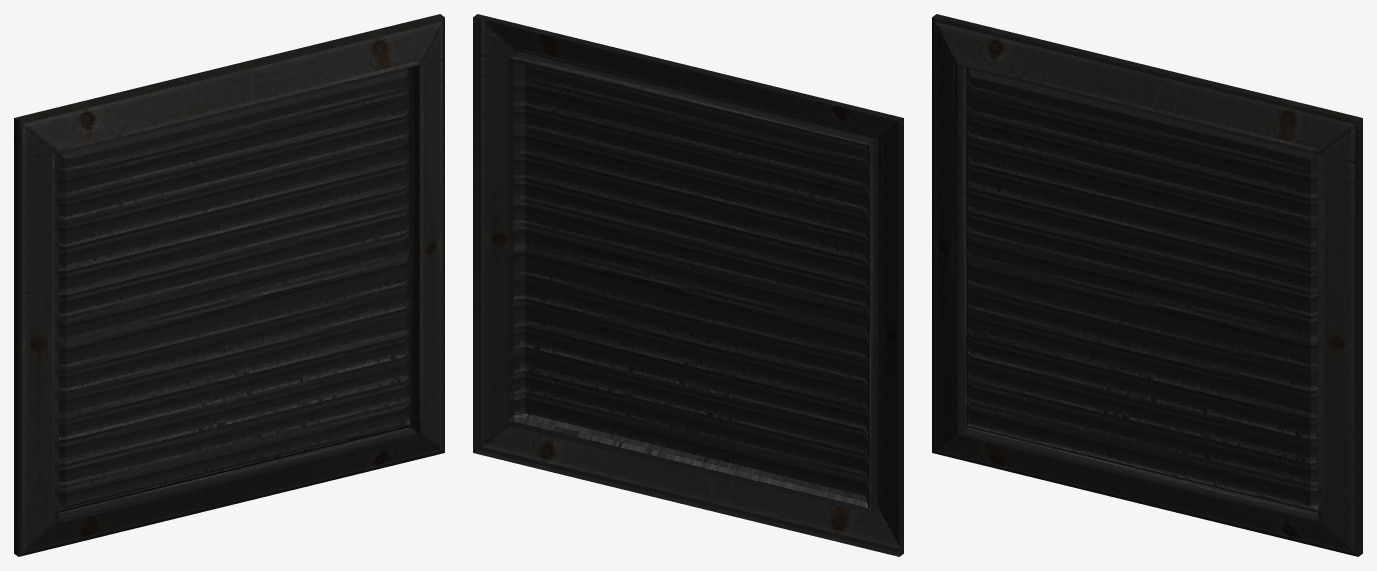
Rendered from vent_2.glb.
The picture shows the model from 3 angles, left to right: view 1: azimuth 30°, elevation 25°; view 2: azimuth 150°, elevation 25°; view 3: azimuth 330°, elevation 25°; orthographic projection.
Visible parts, largest first — view 1: vent_2; view 2: vent_2; view 3: vent_2.
Part boxes in pixels (bbox=[...]): vent_2: bbox=[14, 14, 444, 556]; vent_2: bbox=[473, 14, 903, 556]; vent_2: bbox=[932, 14, 1362, 556].
Bounding box in the file's own units: 0.8192 × 0.8 × 0.04.
1 material, 1 textured.
